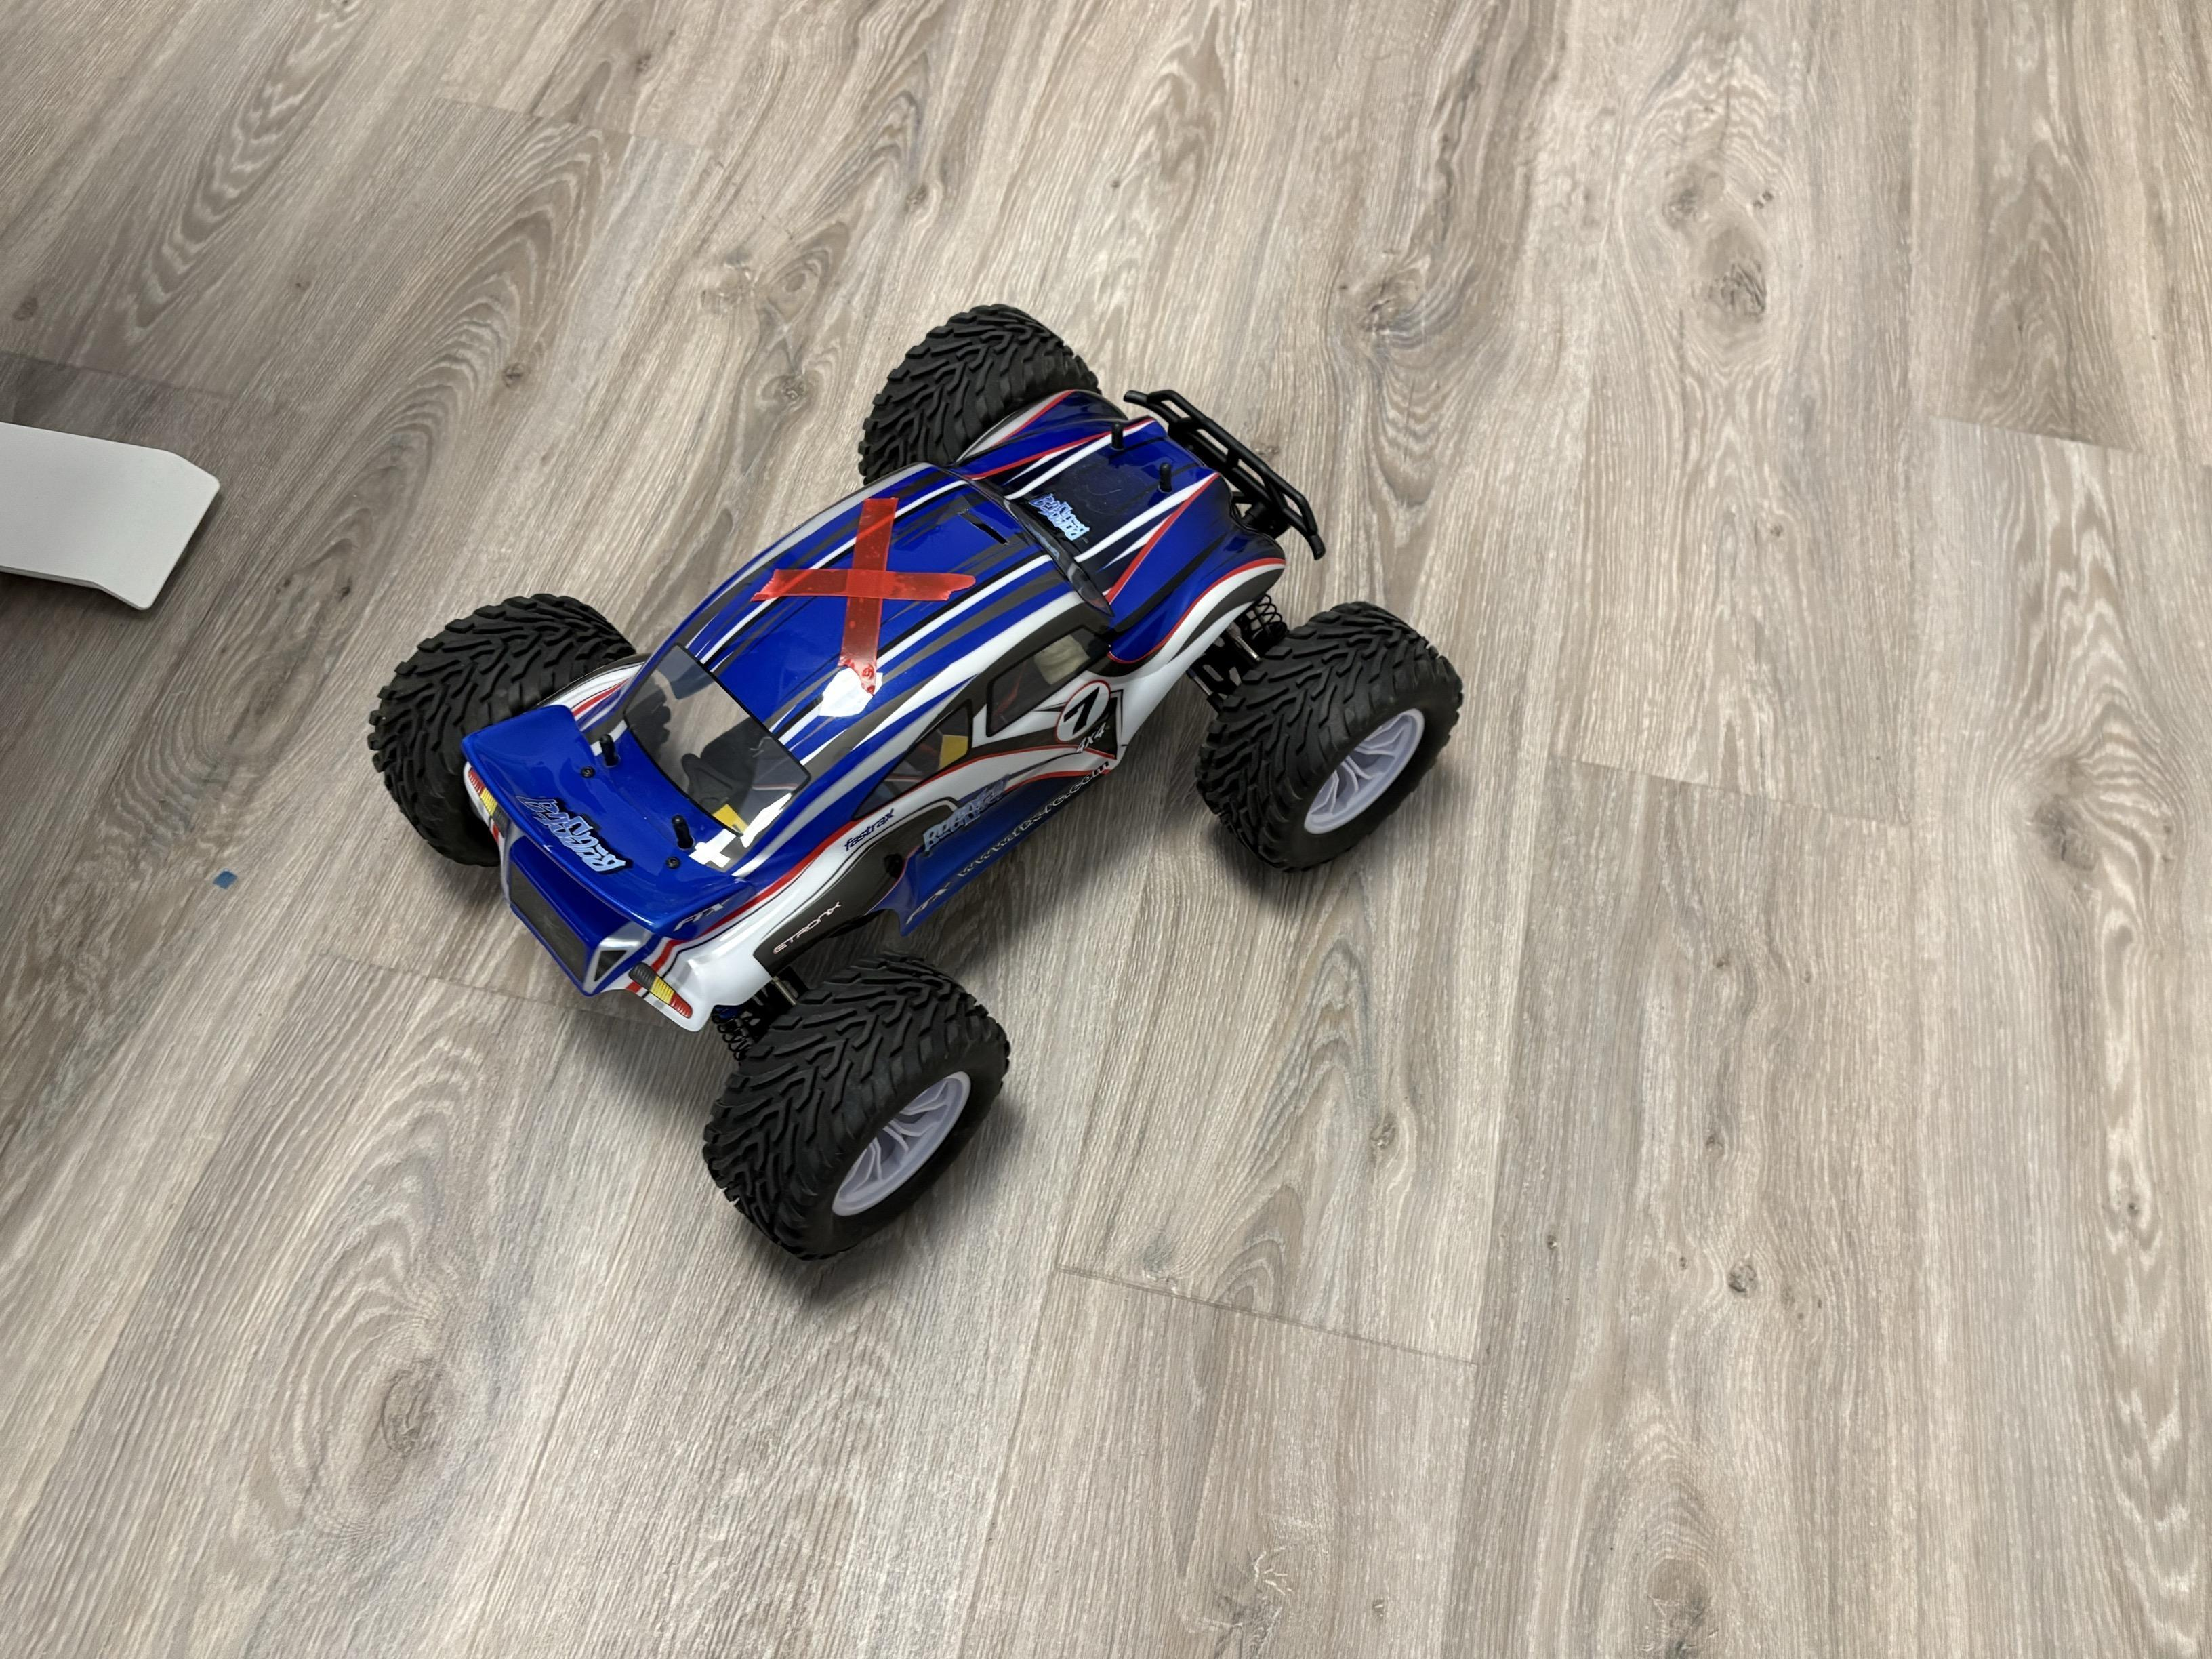Car: (190, 108, 1597, 1326)
